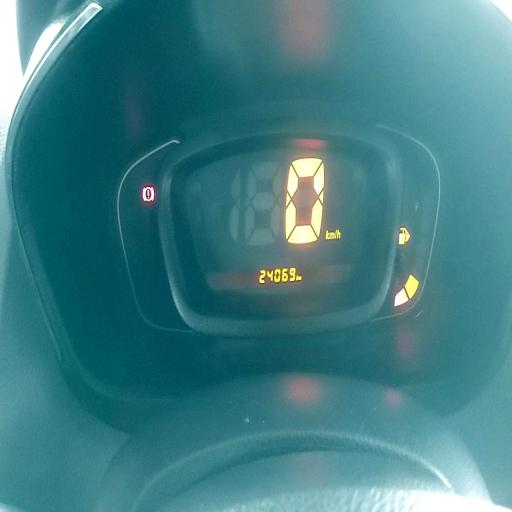brake_system_fault: (142, 184, 154, 203)
